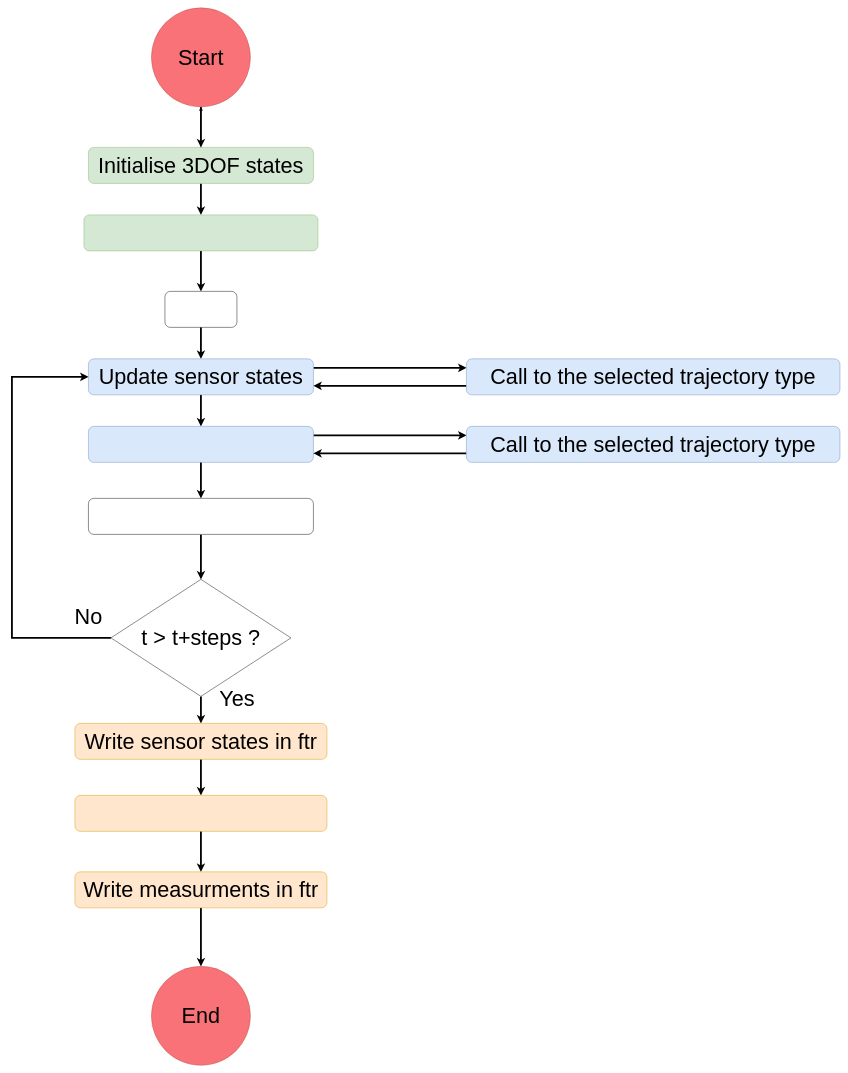
Some shapes in this 848 by 1073 pixel diagram are drawn without their labels. The shapes that lost their labels are listed below. From the top down, each one's centre as x and y in pixels, then its label:
[200,232]: Initialise measurements
[200,309]: t = 0
[200,444]: Update object states
[200,516]: Update measurements
[200,813]: Write object states in ftr
